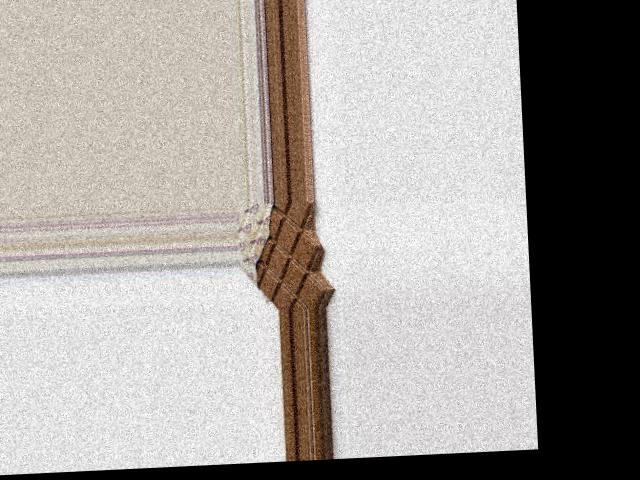chocolate: (237, 199, 327, 310)
